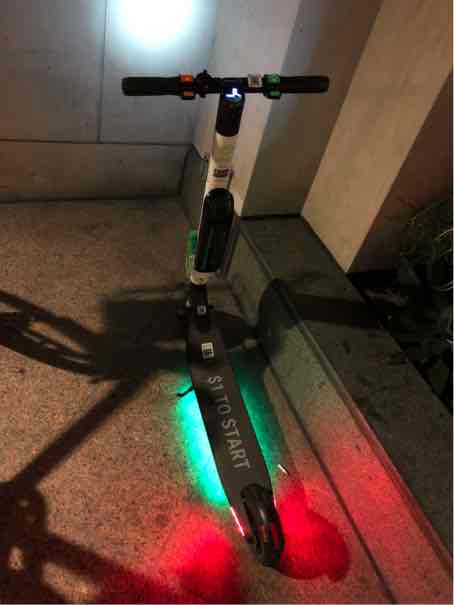scooter: (112, 62, 346, 573)
